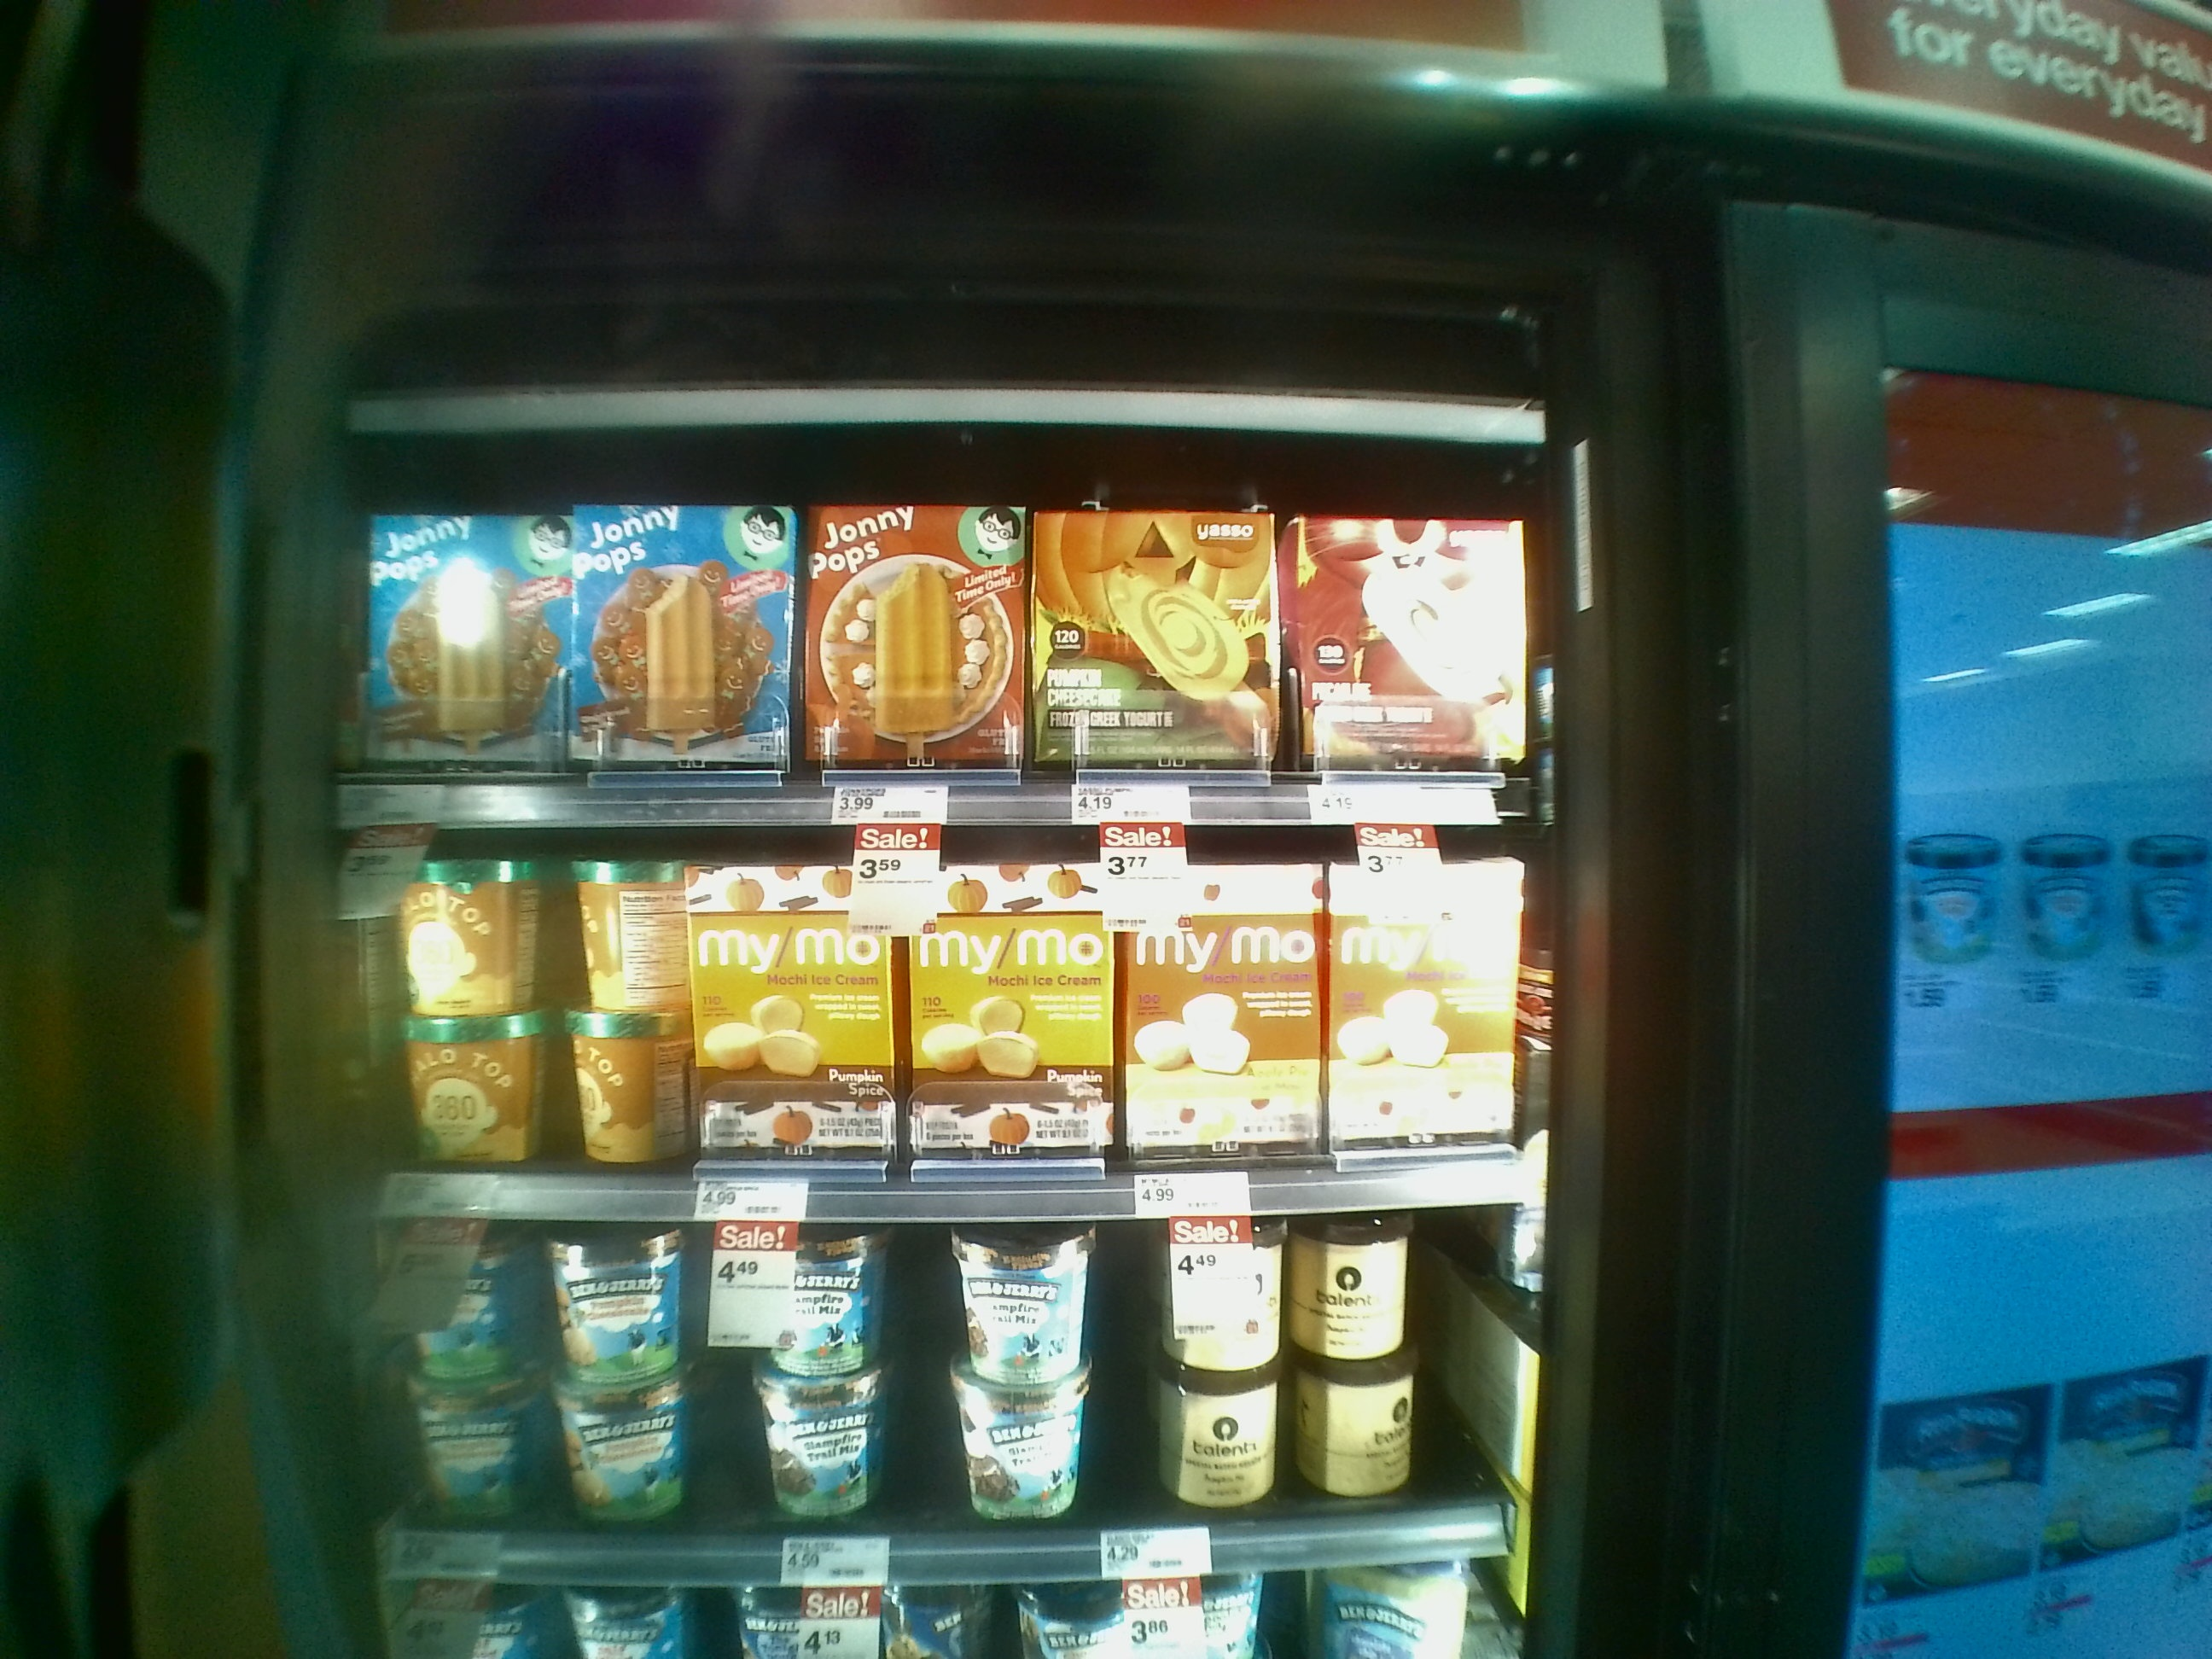shelf: (338, 415, 1569, 833), (319, 816, 1531, 1209), (354, 1218, 1519, 1575)
